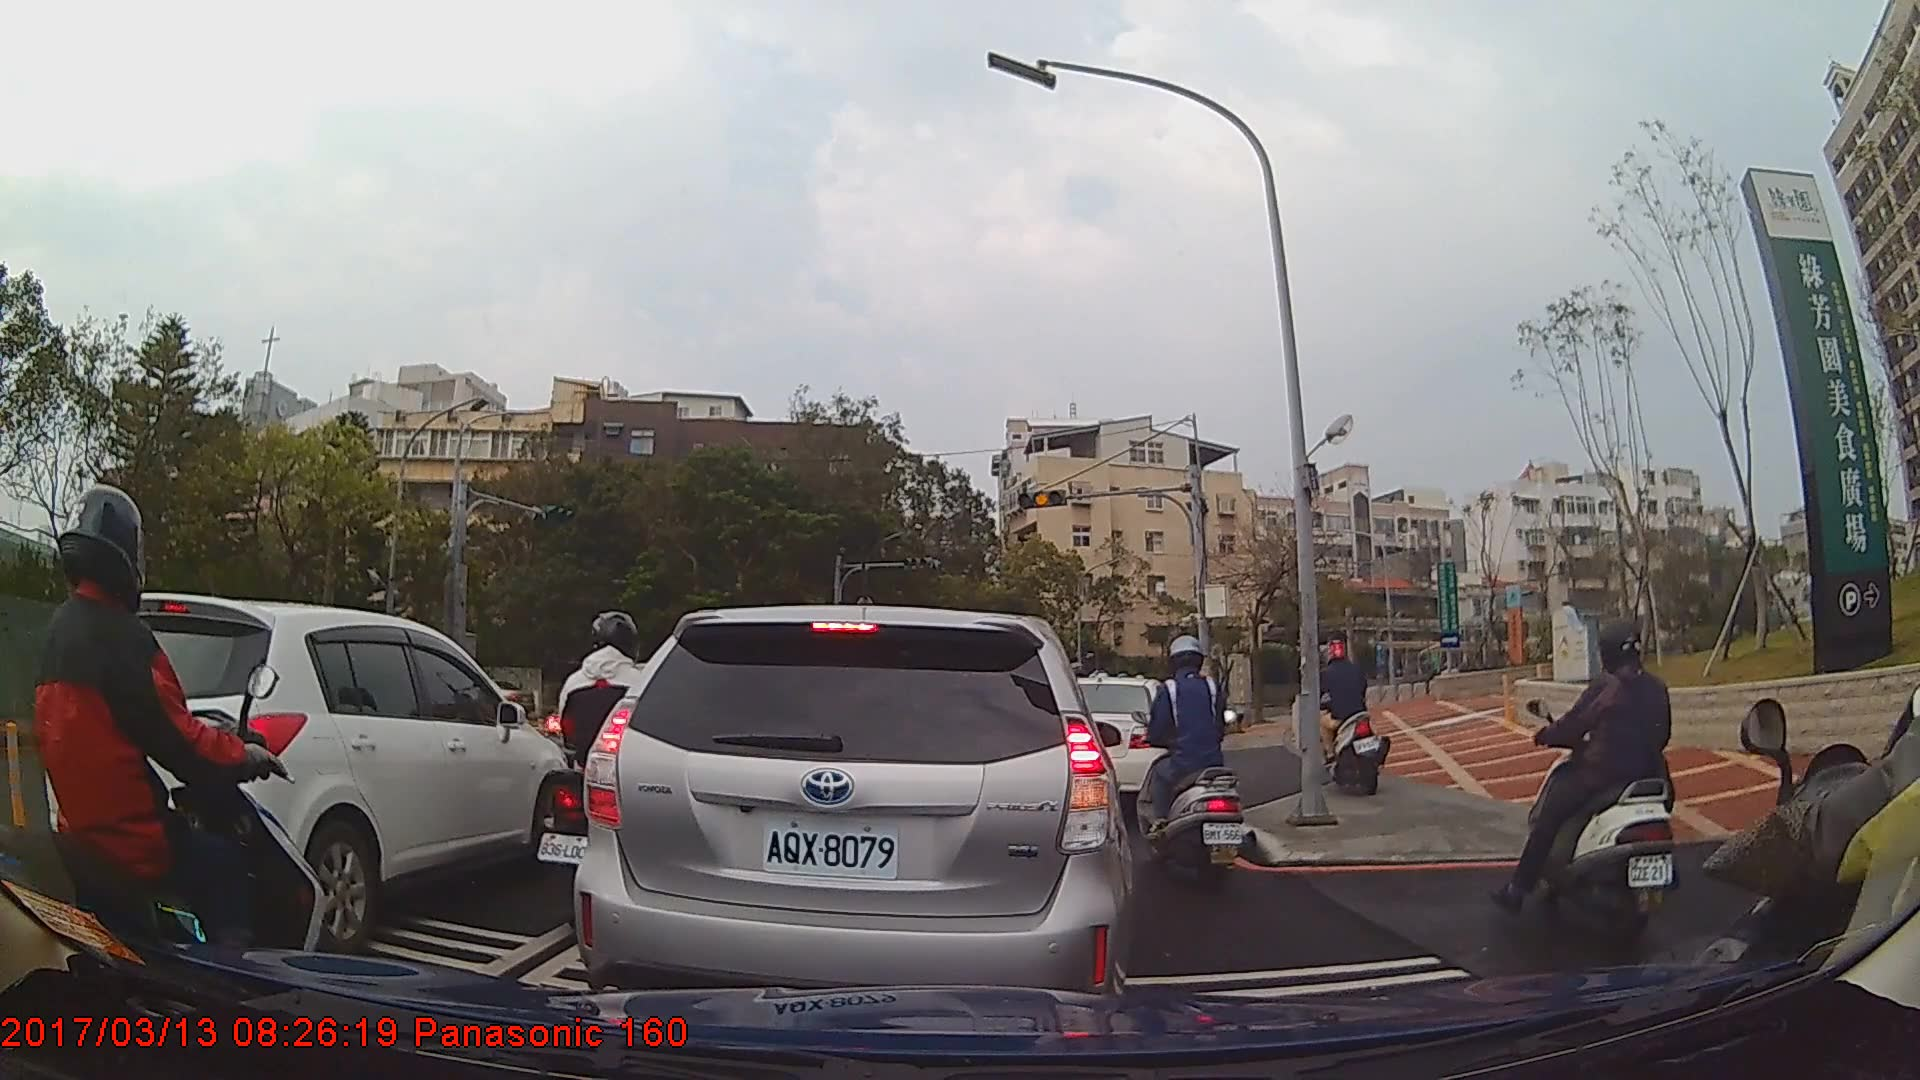rider: (1, 479, 338, 1060), (1495, 616, 1682, 932), (526, 605, 688, 917), (1135, 633, 1253, 894), (1310, 639, 1388, 807)
vehicle: (570, 601, 1134, 1019), (39, 592, 579, 954)
